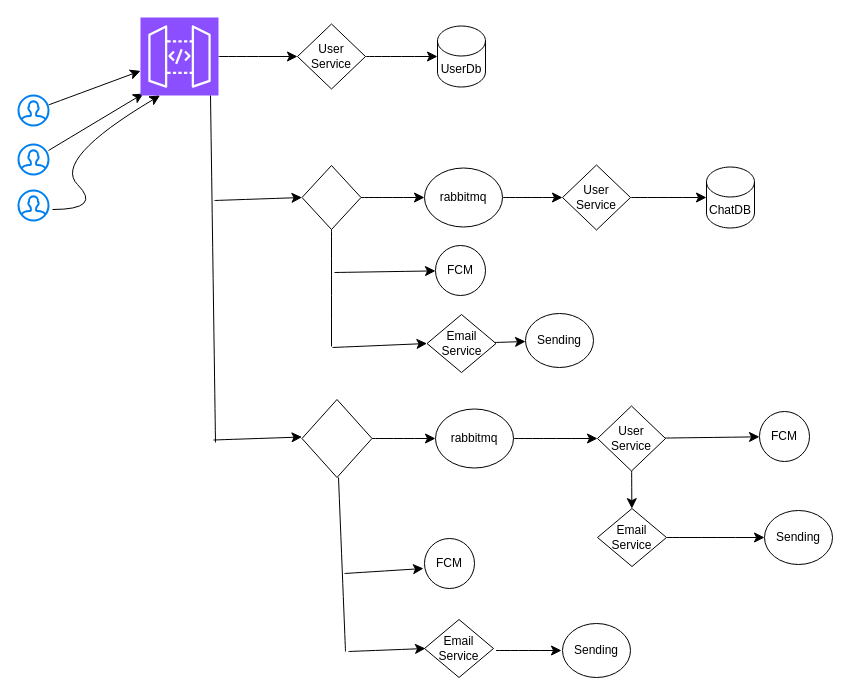
This 850x695 diagram has some shape labels left out. Here are the shapes that lost their labels. From the top down, the box of each, then its label:
(301, 164, 361, 230): Chat Service
(301, 398, 372, 478): Notification Service
